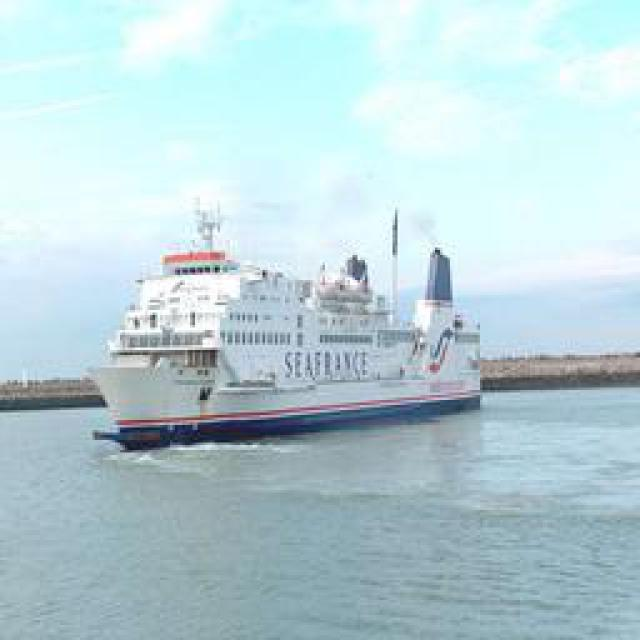Ship: (94, 209, 487, 452)
